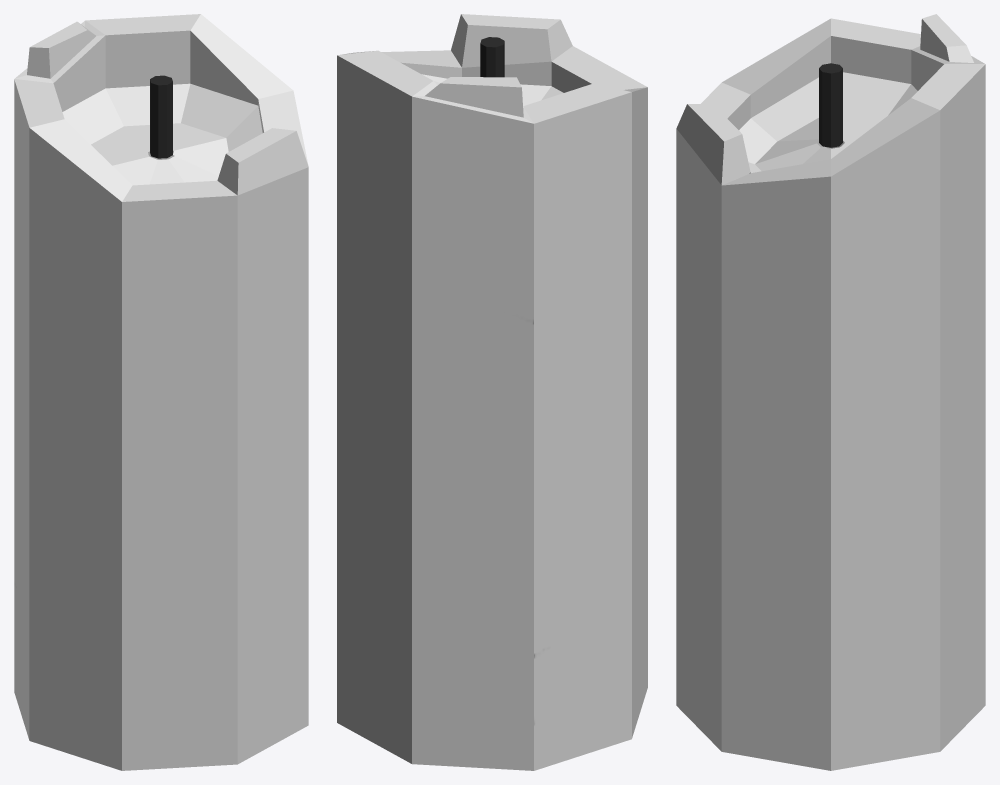
File: CandleUnlit.fbx
3 views of the same model, side by side, from view 1: azimuth 30°, elevation 25°; view 2: azimuth 150°, elevation 25°; view 3: azimuth 270°, elevation 25° (orthographic). The views are drawn at different scales.
Visible parts, largest first — view 1: CandleUnlit; view 2: CandleUnlit; view 3: CandleUnlit.
Boxes of the visible parts, bbox=[...] form: CandleUnlit: bbox=[14, 14, 308, 770]; CandleUnlit: bbox=[337, 14, 647, 770]; CandleUnlit: bbox=[676, 14, 985, 770].
Size of the model in its own units: 6 by 13.99 by 6.
